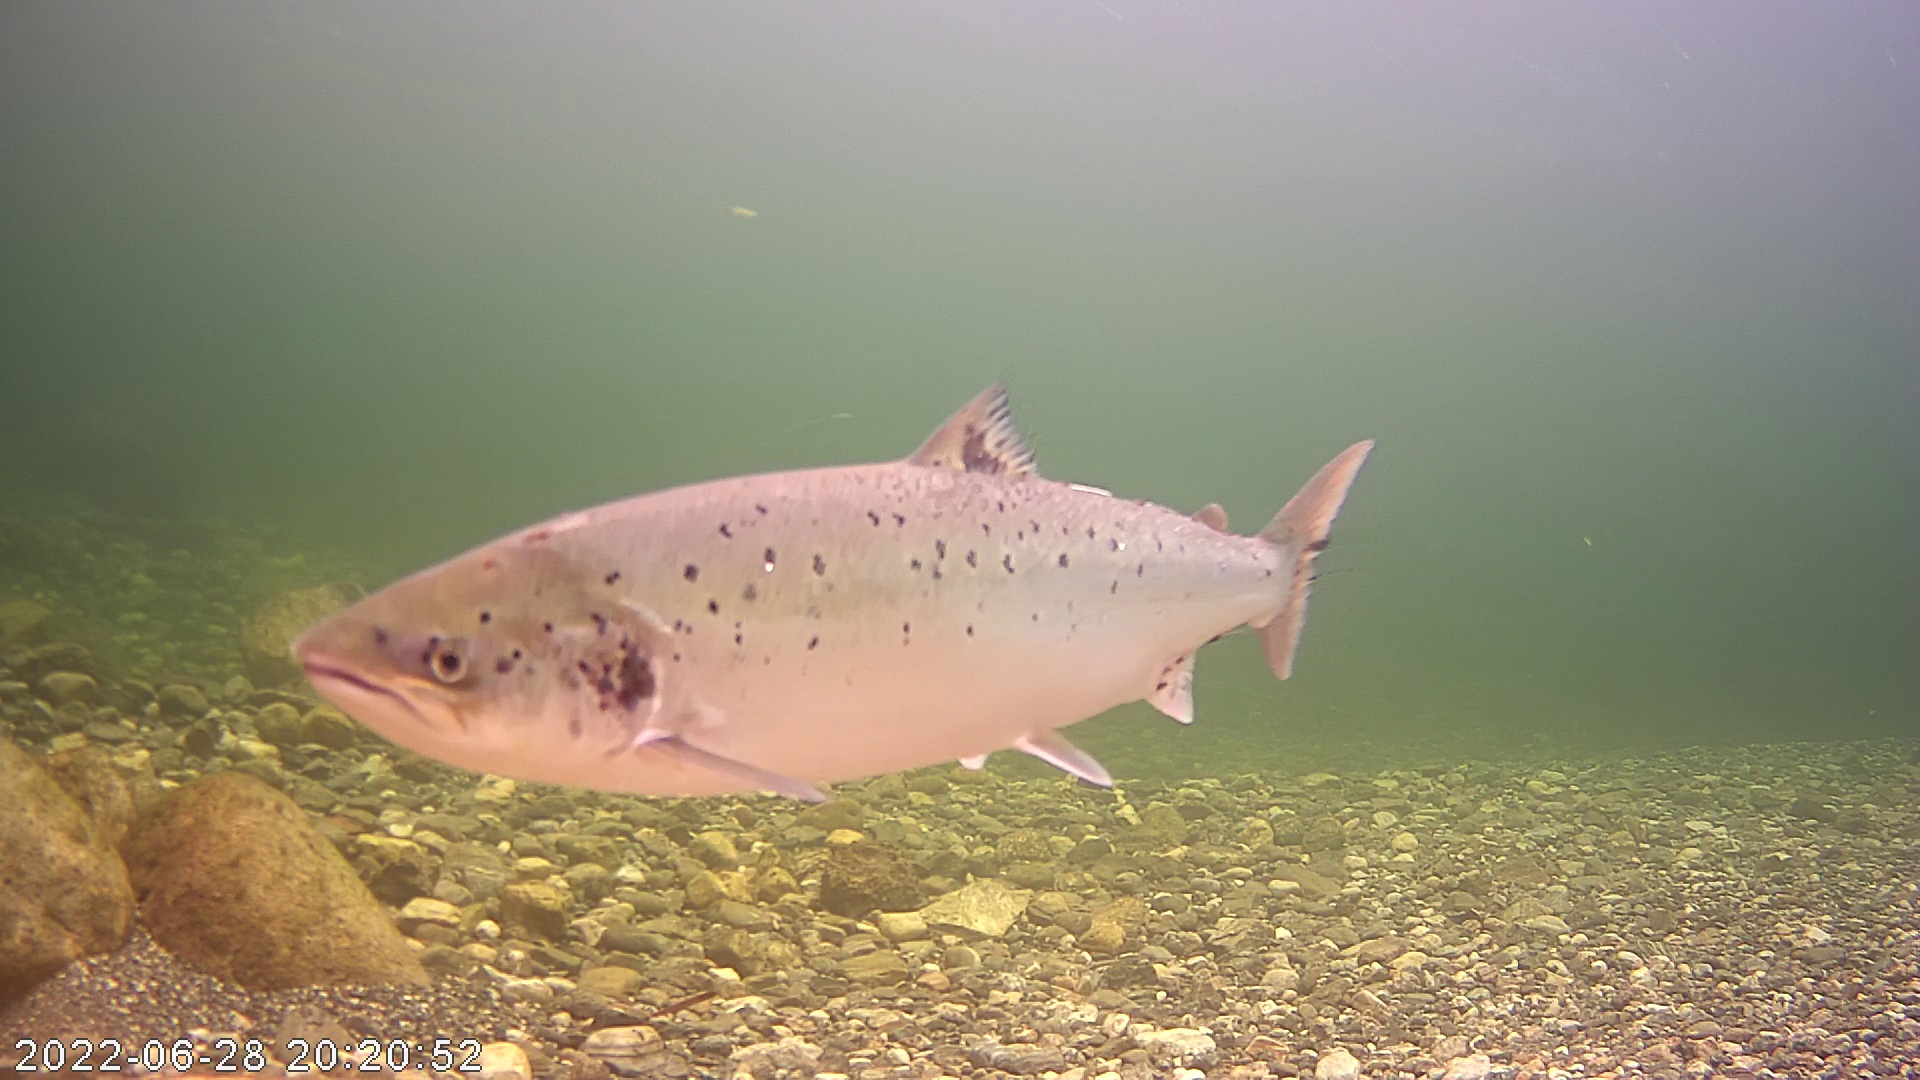salmon: (273, 332, 1362, 820)
